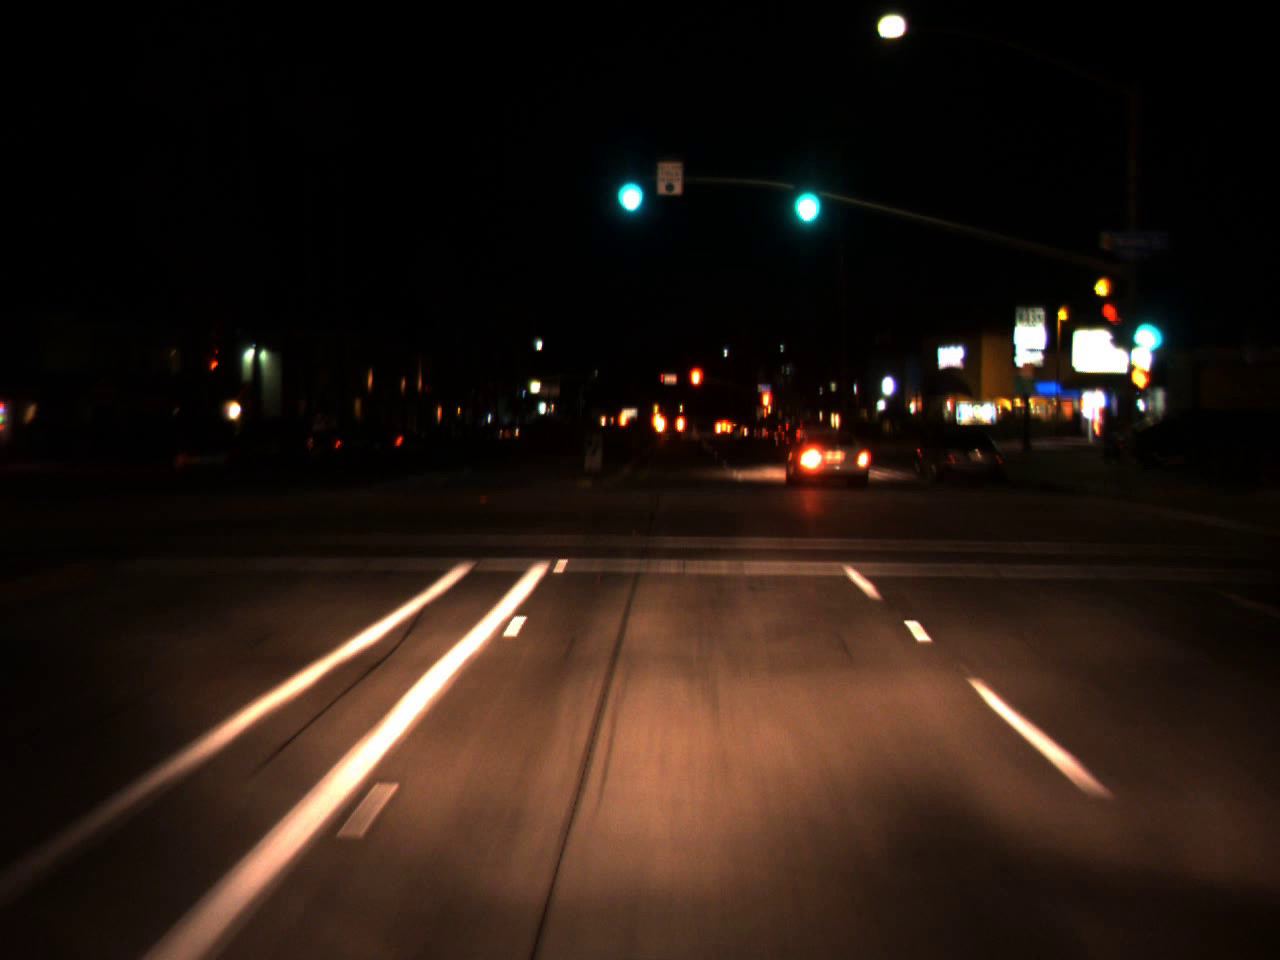go: (782, 152, 827, 236), (607, 148, 648, 220), (1123, 302, 1162, 356)
stop: (688, 365, 704, 405), (758, 387, 773, 424)
